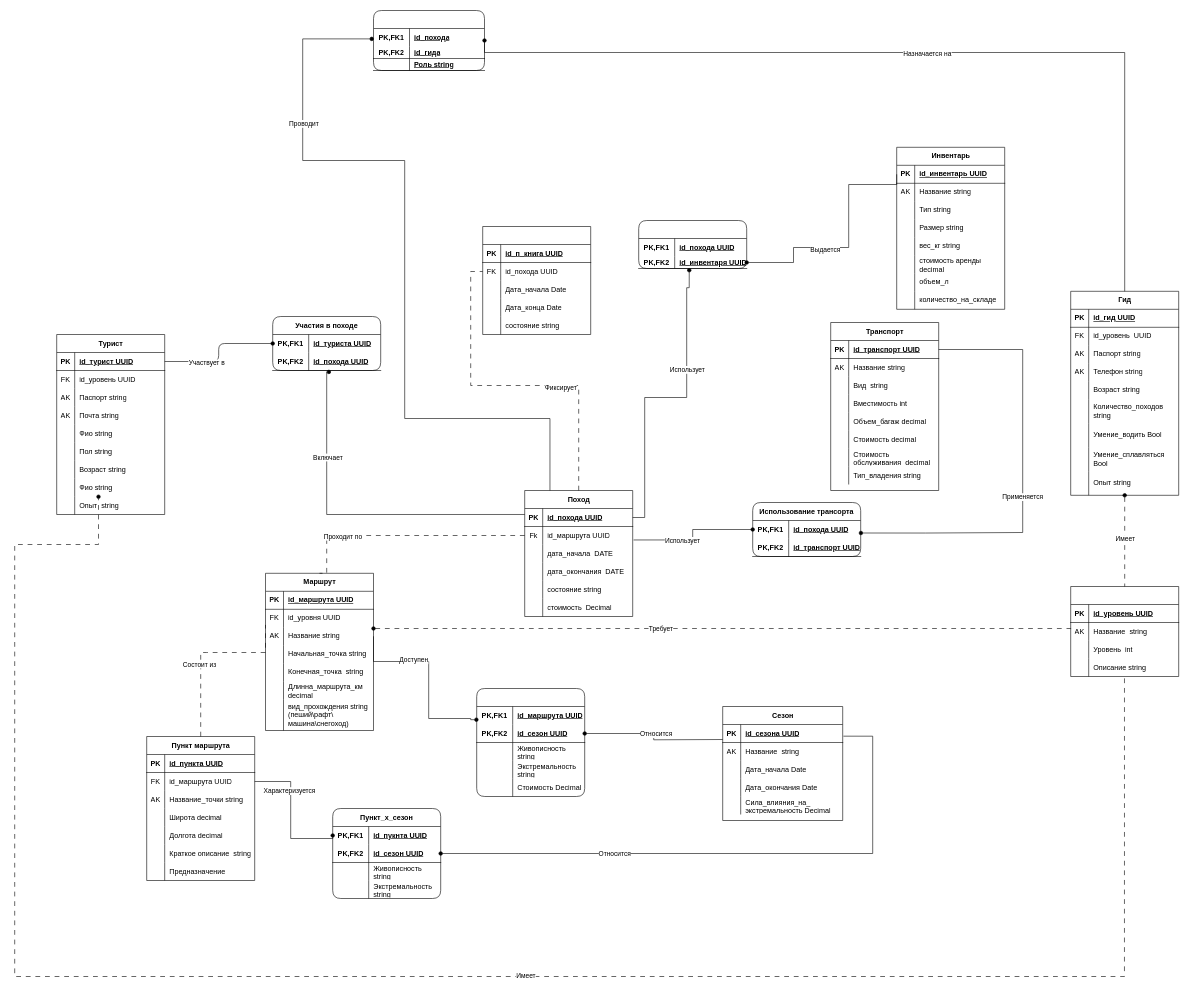
Image size: 1189x992. Some labels were removed from this diagram. The box of each missing label's shape, as (x1, y1, x2, y2) in pixels:
Выдача инвентаря: (638, 220, 747, 268)
Маршрут_х_ сезон: (476, 688, 585, 796)
Назначеный гид: (373, 10, 484, 70)
Походная книга: (482, 226, 591, 334)
Уровень опытности: (1070, 586, 1179, 676)
